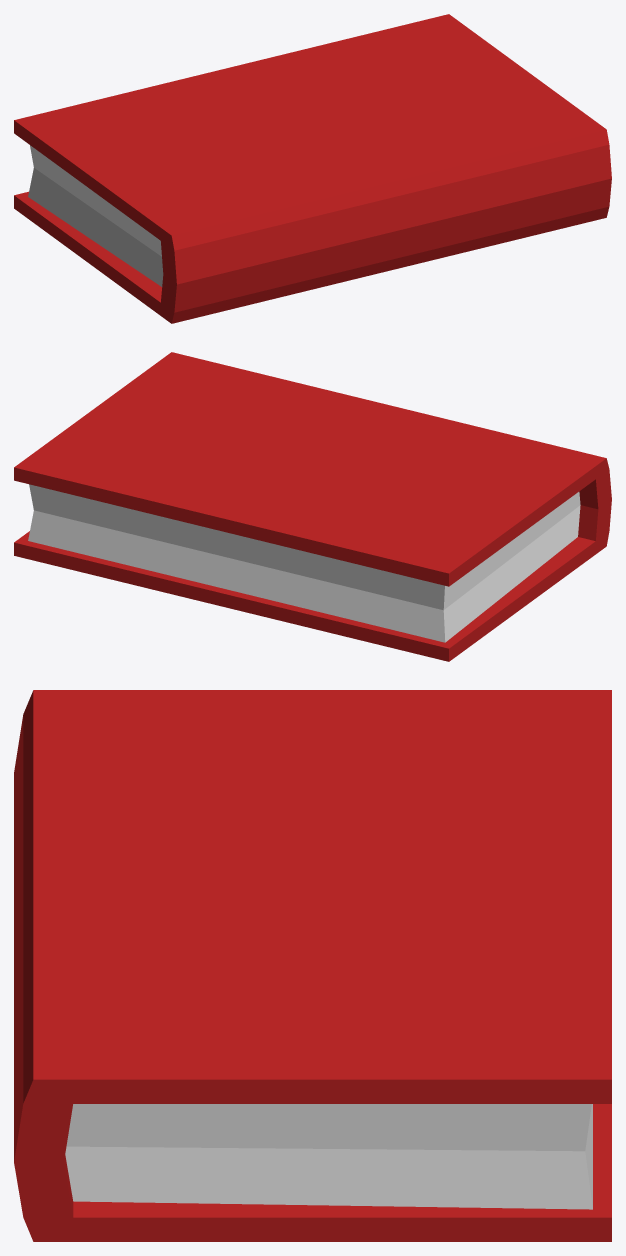
Rendered from book_b.fbx.
3 views of the same model, one above another, from view 1: azimuth 30°, elevation 25°; view 2: azimuth 150°, elevation 25°; view 3: azimuth 270°, elevation 25° (orthographic). The views are drawn at different scales.
Parts seen in each view (by area): view 1: Book_B; view 2: Book_B; view 3: Book_B.
Boxes of the visible parts, x1,y1,x2,y2 form: Book_B: (14, 14, 611, 323); Book_B: (14, 352, 611, 661); Book_B: (14, 690, 611, 1241).
Bounding box in the file's own units: 0.4298 × 0.0834 × 0.2788.
